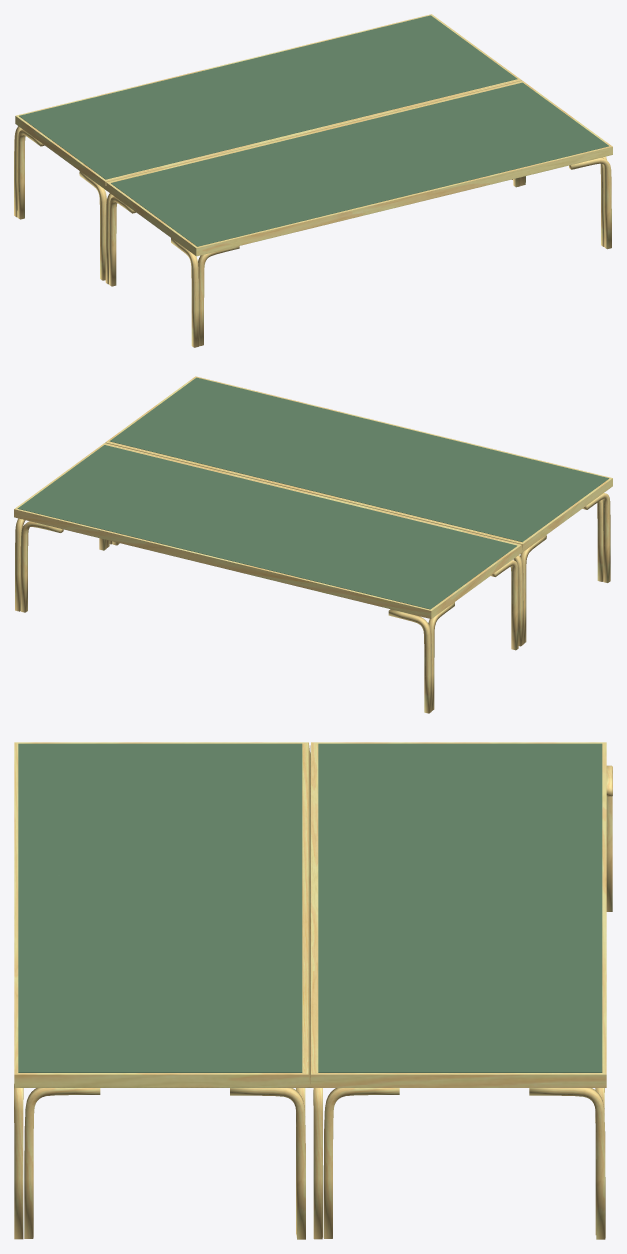
File: Table2.fbx
3 views of the same model, one above another, from view 1: azimuth 30°, elevation 25°; view 2: azimuth 150°, elevation 25°; view 3: azimuth 270°, elevation 25° (orthographic). The views are drawn at different scales.
Parts seen in each view (by area): view 1: Table; view 2: Table; view 3: Table.
Part boxes in pixels (<box>): Table: <box>14,14,612,347</box>; Table: <box>14,376,612,713</box>; Table: <box>14,742,612,1239</box>.
Size of the model in its own units: 200 by 46.56 by 152.
